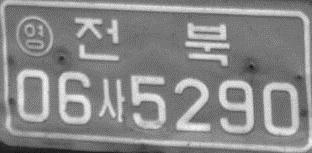0: (261, 80, 300, 136), (15, 69, 50, 123)
2: (173, 76, 212, 132)
5: (129, 74, 166, 130)
6: (56, 70, 92, 126)
9: (219, 79, 255, 133)
사: (98, 79, 125, 123)
영: (14, 15, 54, 57)
전북_D: (73, 16, 231, 66)
